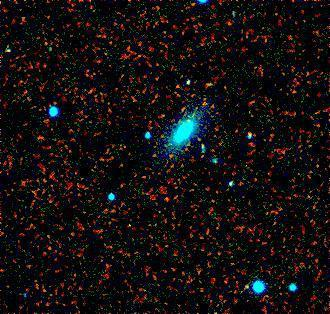star: (151, 183, 181, 213)
